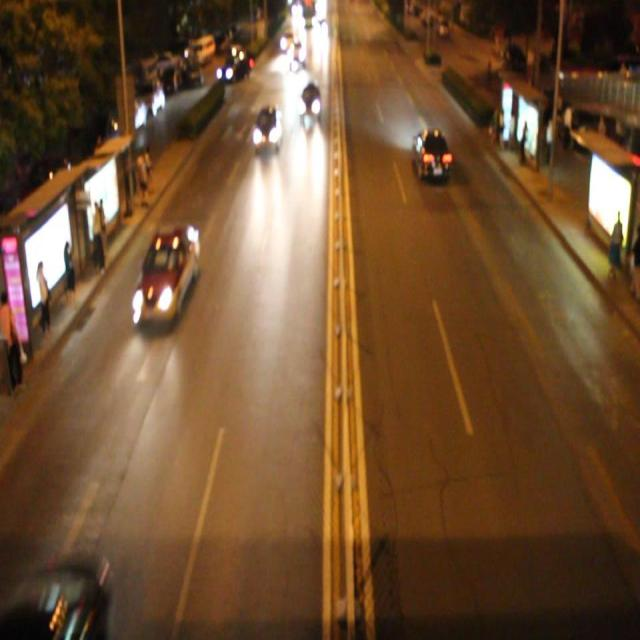car: (1, 559, 113, 640), (132, 222, 199, 324), (409, 124, 452, 181), (251, 105, 283, 150), (296, 80, 321, 123)
